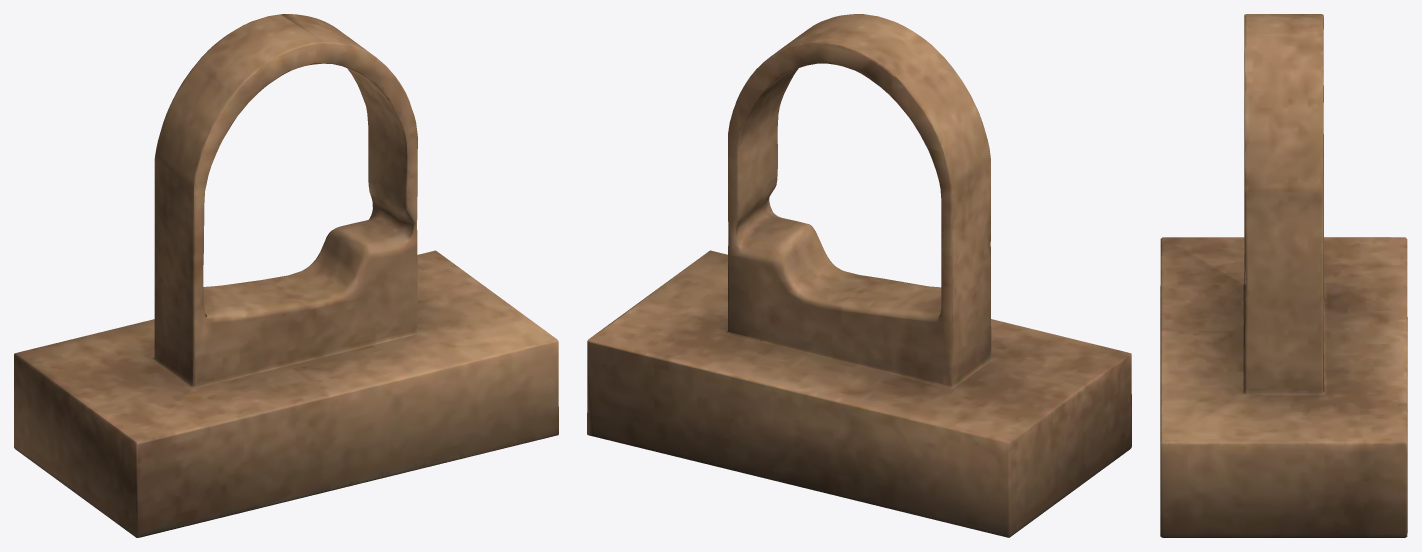
File: chipped-sandstone-wall-section-v001.glb
3 renders of one model, left to right at view 1: azimuth 30°, elevation 25°; view 2: azimuth 150°, elevation 25°; view 3: azimuth 270°, elevation 25°, orthographic.
Parts seen in each view (by area): view 1: chipped-sandstone-wall-section; view 2: chipped-sandstone-wall-section; view 3: chipped-sandstone-wall-section.
Boxes of the visible parts, x1=… form: chipped-sandstone-wall-section: x1=14, y1=14, x2=558, y2=537; chipped-sandstone-wall-section: x1=587, y1=14, x2=1131, y2=537; chipped-sandstone-wall-section: x1=1160, y1=14, x2=1407, y2=537.
Size of the model in its own units: 0.8594 by 0.7998 by 0.4362.
Materials: 1 (1 with a texture image).
